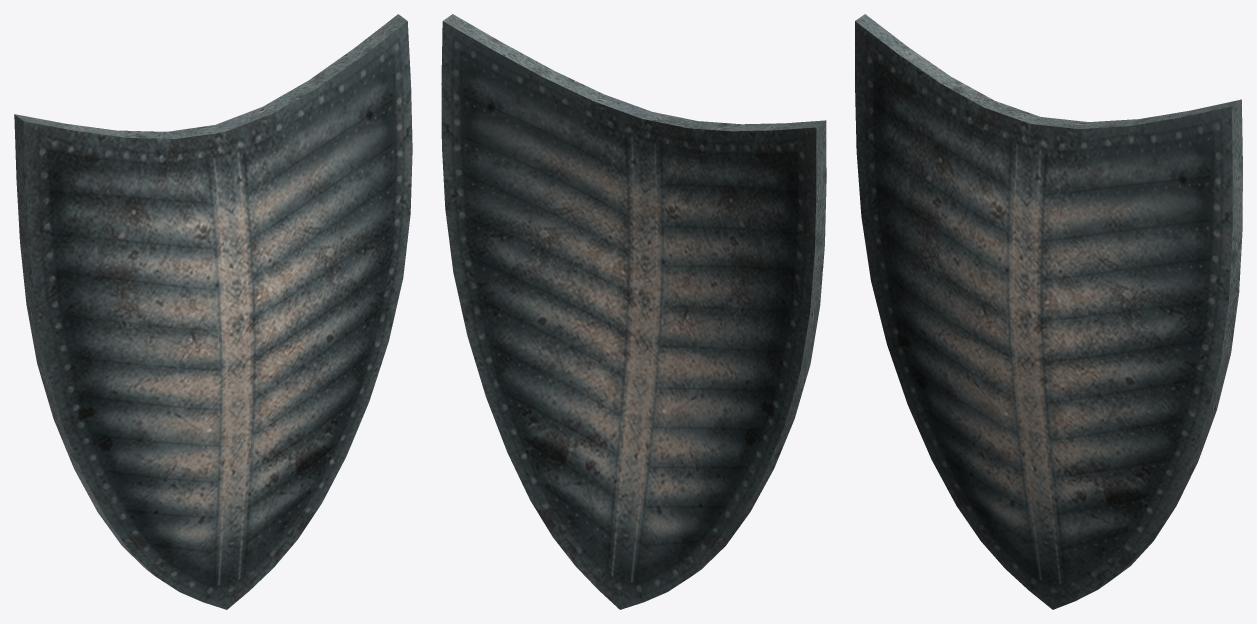
File: Footman_Heater.FBX
The picture shows the model from 3 angles, left to right: view 1: azimuth 30°, elevation 25°; view 2: azimuth 150°, elevation 25°; view 3: azimuth 330°, elevation 25°; orthographic projection.
Visible parts, largest first — view 1: Footman_Heater; view 2: Footman_Heater; view 3: Footman_Heater.
Part boxes in pixels (box(x1,y1,x2,y2)): Footman_Heater: box(14, 14, 412, 609); Footman_Heater: box(441, 14, 826, 609); Footman_Heater: box(855, 14, 1242, 609).
Size of the model in its own units: 60.28 by 82.2 by 8.77.
